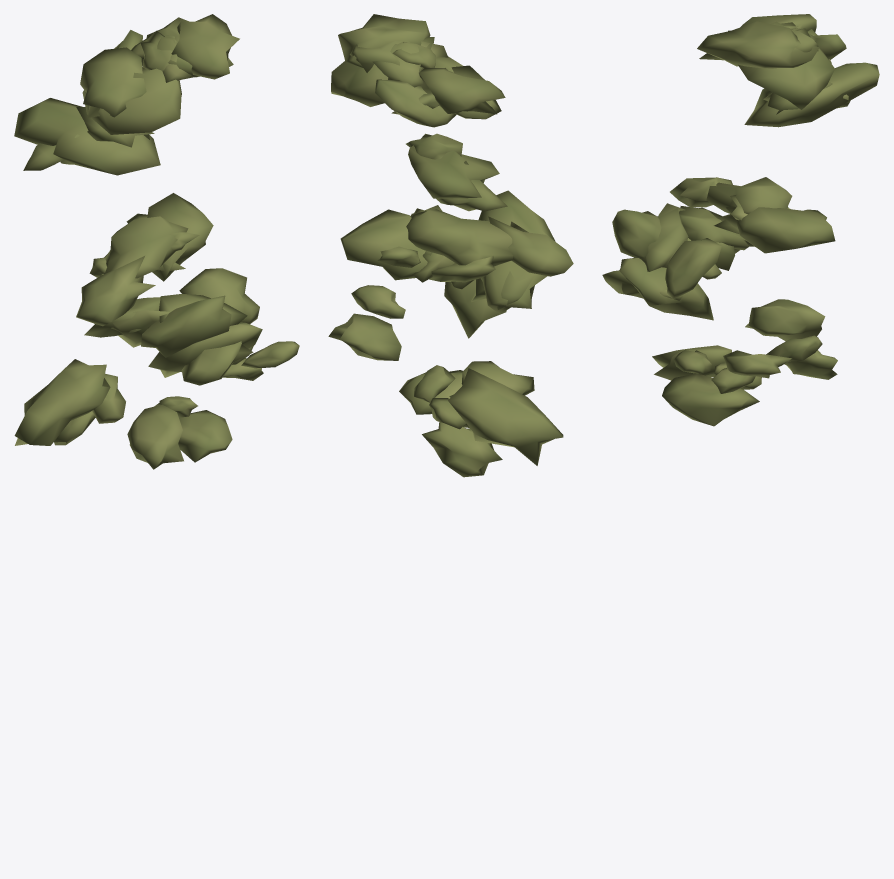
Rendered from baum-buche-0-nah.glb.
The picture shows the model from 3 angles, left to right: view 1: azimuth 30°, elevation 25°; view 2: azimuth 150°, elevation 25°; view 3: azimuth 270°, elevation 25°; orthographic projection.
Visible parts, largest first — view 1: Baum_Stamm.001; view 2: Baum_Stamm.001; view 3: Baum_Stamm.001.
Part boxes in pixels (bbox=[...]): Baum_Stamm.001: bbox=[14, 14, 299, 469]; Baum_Stamm.001: bbox=[328, 14, 573, 477]; Baum_Stamm.001: bbox=[602, 14, 879, 426].
Bounding box in the file's own units: 9.45 × 30.3 × 9.14.
